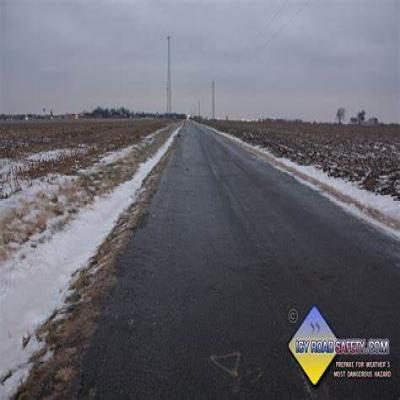iced-road: (82, 122, 400, 400), (88, 123, 400, 400)
